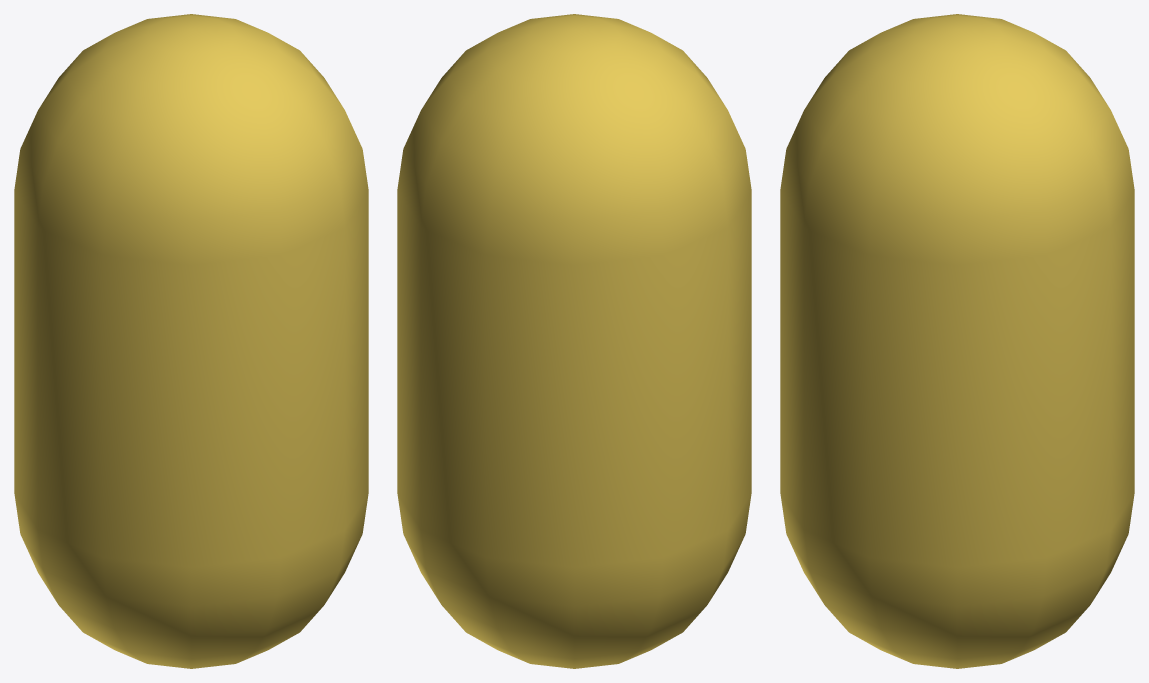
3 views of the same model, side by side, from view 1: azimuth 30°, elevation 25°; view 2: azimuth 150°, elevation 25°; view 3: azimuth 270°, elevation 25° (orthographic).
Visible parts, largest first — view 1: Capsule01_PIVOT; view 2: Capsule01_PIVOT; view 3: Capsule01_PIVOT.
Part boxes in pixels (bbox=[...]): Capsule01_PIVOT: bbox=[14, 14, 368, 668]; Capsule01_PIVOT: bbox=[397, 14, 751, 668]; Capsule01_PIVOT: bbox=[780, 14, 1134, 668].
Size of the model in its own units: 2 by 2 by 3.88.
